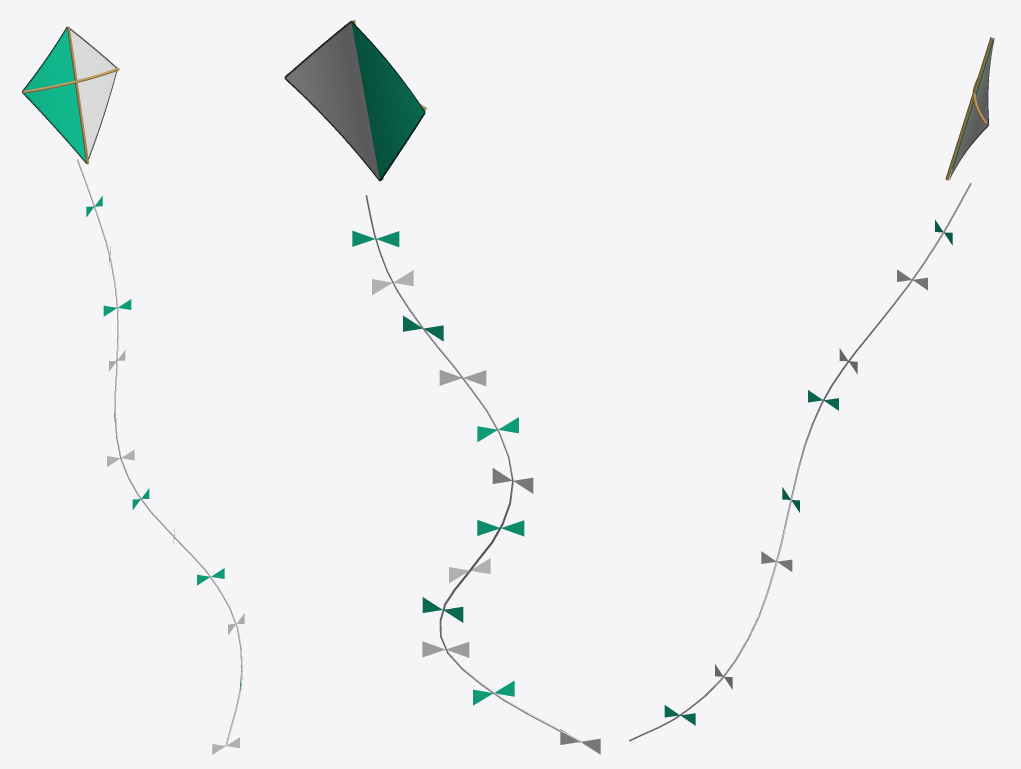
Rendered from pipa-2.glb.
3 views of the same model, side by side, from view 1: azimuth 30°, elevation 25°; view 2: azimuth 150°, elevation 25°; view 3: azimuth 270°, elevation 25° (orthographic). The views are drawn at different scales.
Visible parts, largest first — view 1: pipa-2; view 2: pipa-2; view 3: pipa-2.
Part boxes in pixels (<box>): pipa-2: <box>22,26,244,754</box>; pipa-2: <box>284,19,600,754</box>; pipa-2: <box>629,37,994,741</box>.
Size of the model in its own units: 1.06 by 5.5 by 2.66.
5 materials, 1 textured.
